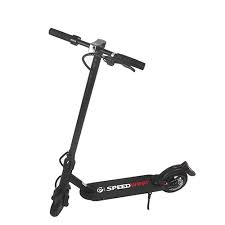kick_handler: (48, 28, 146, 73)
kick_wheel: (161, 161, 195, 193), (50, 183, 70, 215)
